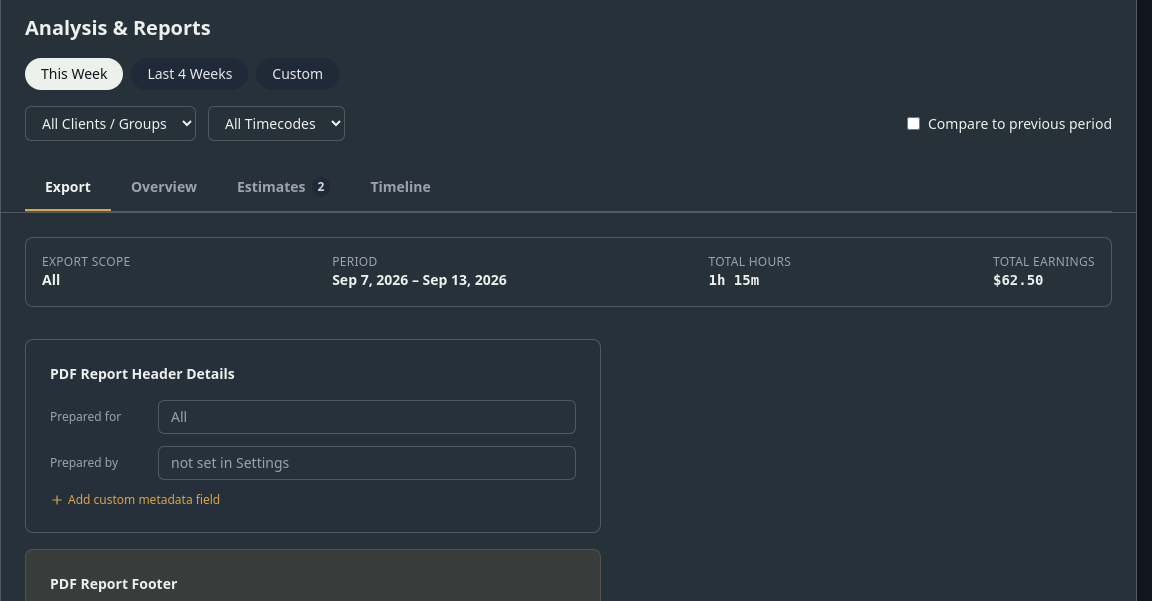
AnalysisView Redesign Tabs & Metrics › renders deep estimate metrics when navigating to Estimates tab
The width and height of the screenshot is (1152, 601).
Click the tab "Estimates 2" at [284, 188], box [217, 165, 350, 211]
(page scrolled)
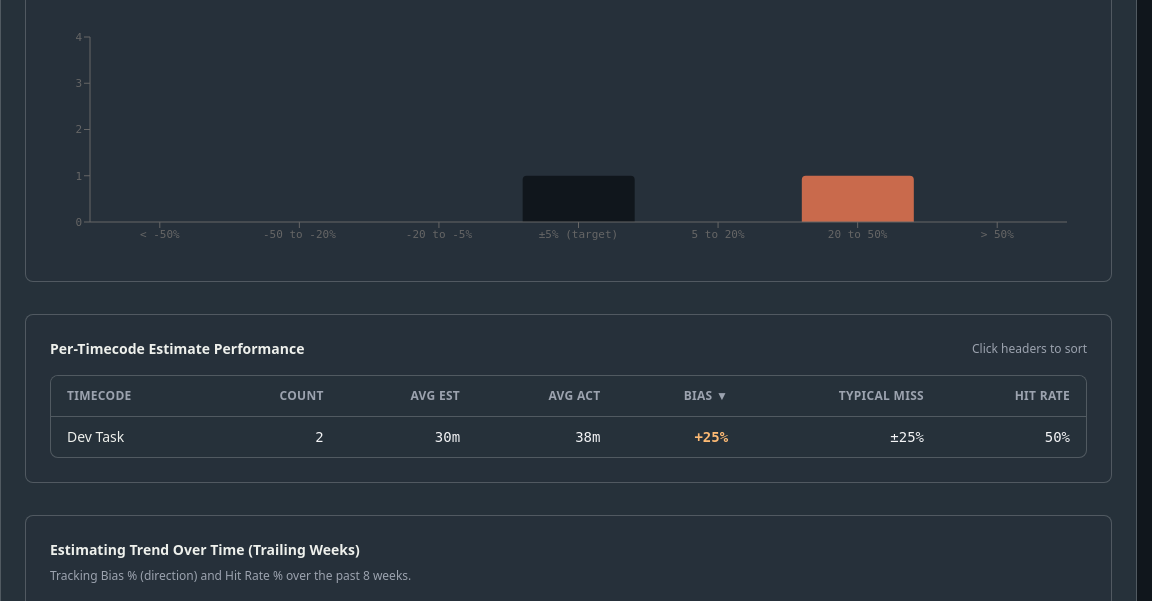
Check: the heading "Per-Timecode Estimate Performance" is shown, box [50, 339, 304, 359]
